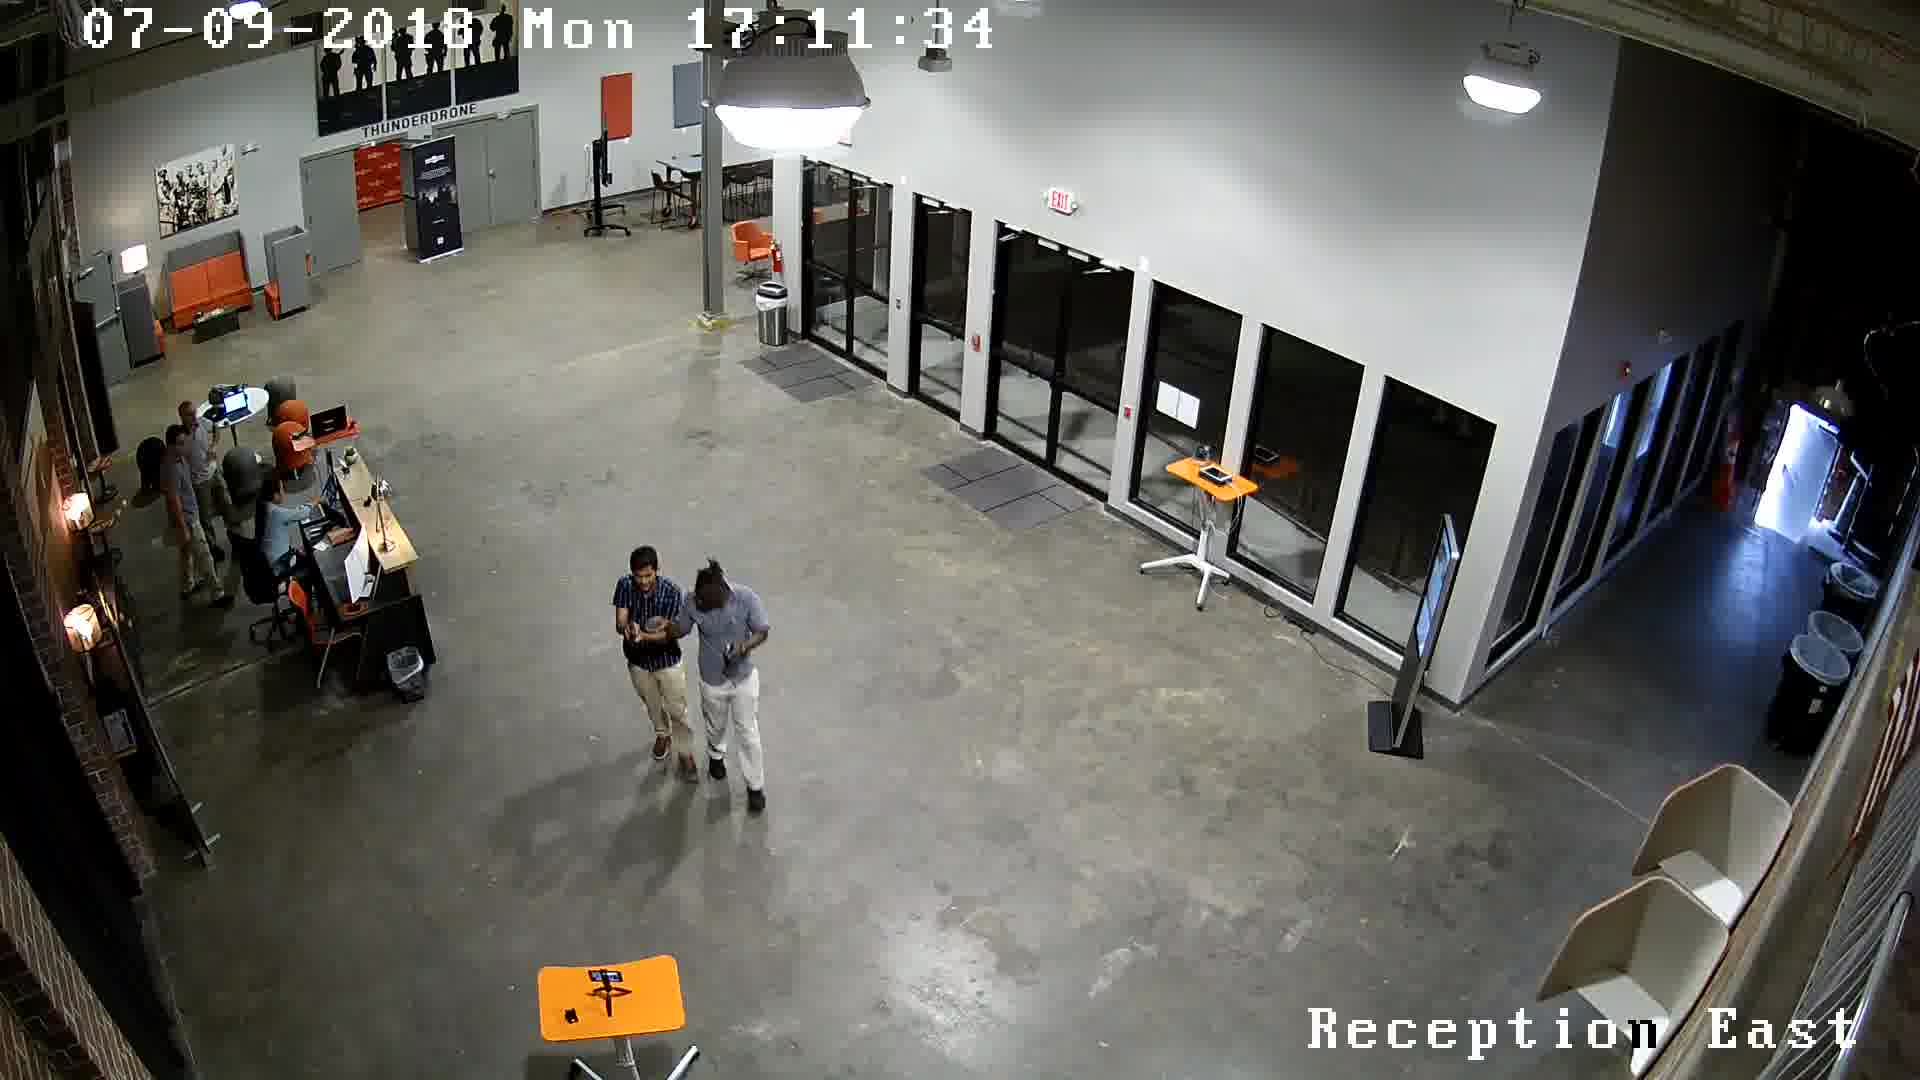pistol: (607, 620, 654, 658)
